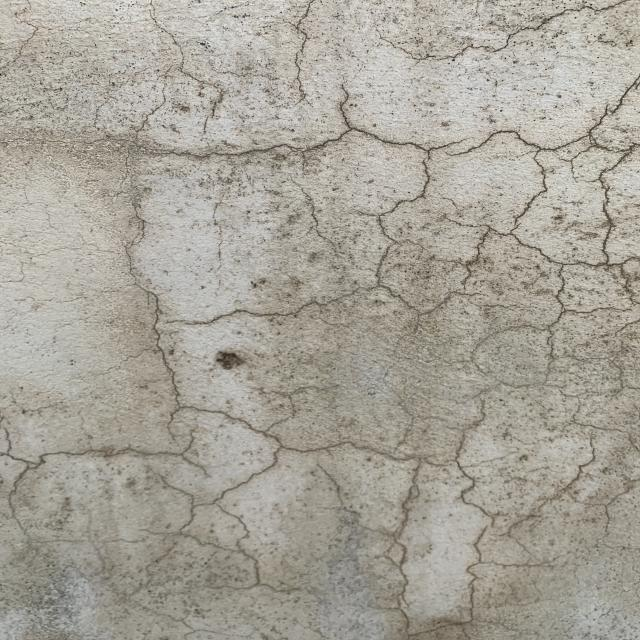diagonal crack: (1, 24, 43, 92)
multi-branched crack: (2, 0, 640, 640)
vertical crack: (290, 2, 321, 99)
